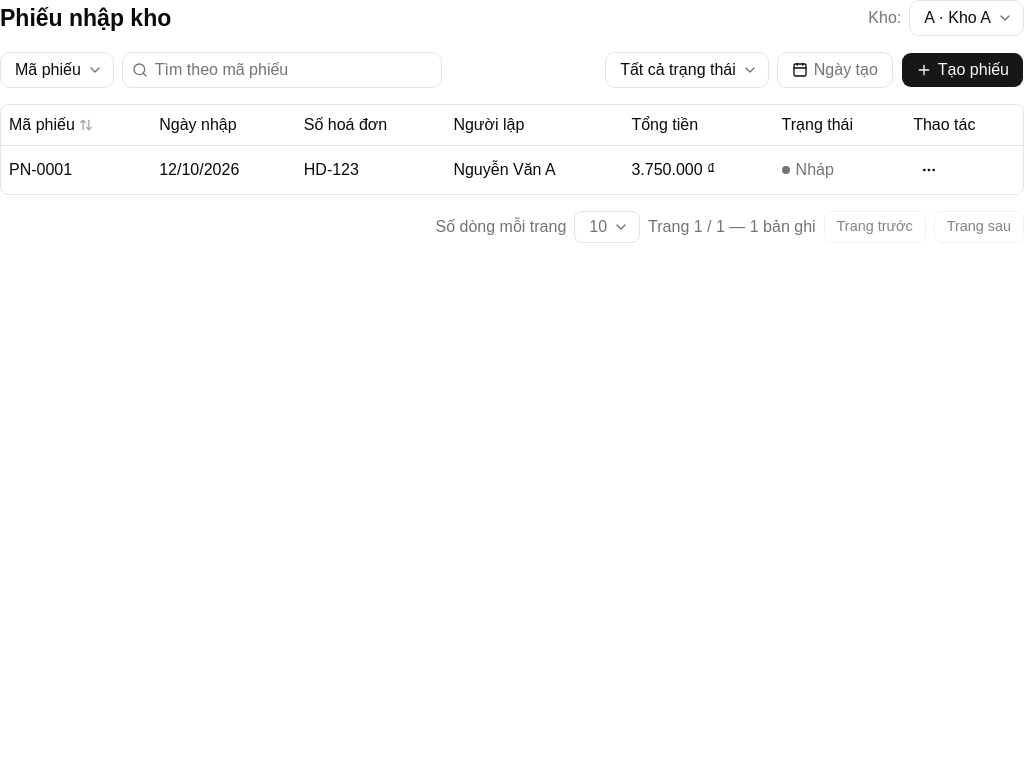
ImportFormsPage › bấm Tạo phiếu → mở sheet tạo ngay trên danh sách, không điều hướng
Click the button "Tạo phiếu". click: point(962, 70)
box: [901, 52, 1023, 88]
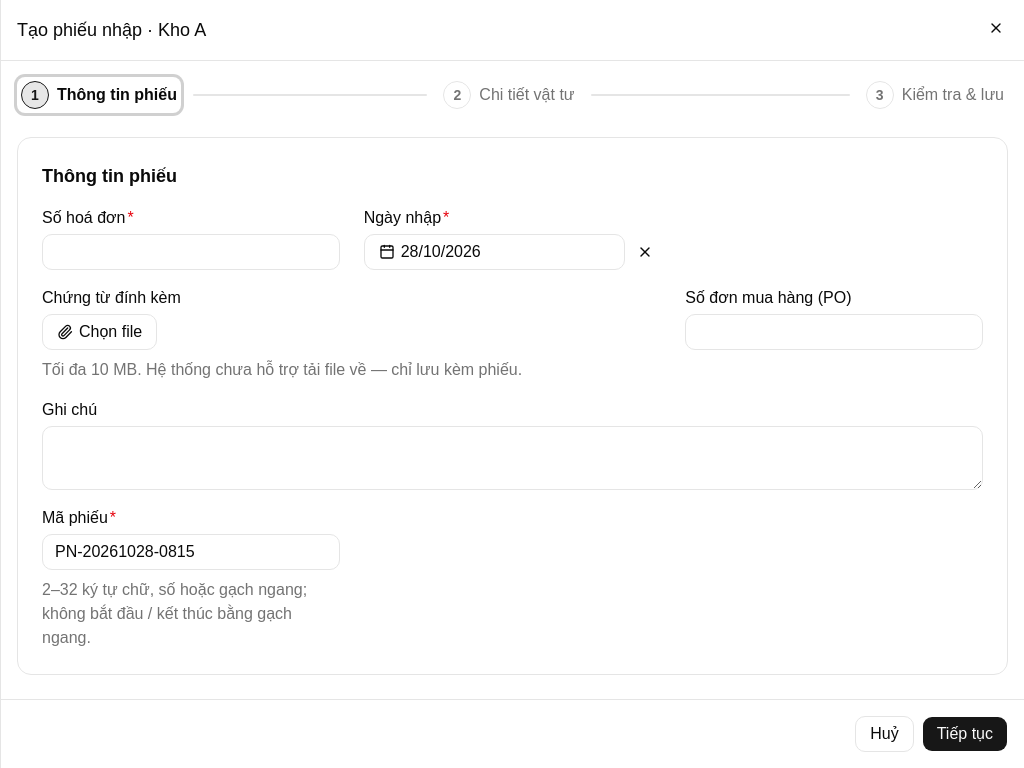
Expected: the link "PN-0001" is shown, [9, 160, 72, 178]
Result: the dialog "Tạo phiếu nhập · Kho A" is shown
